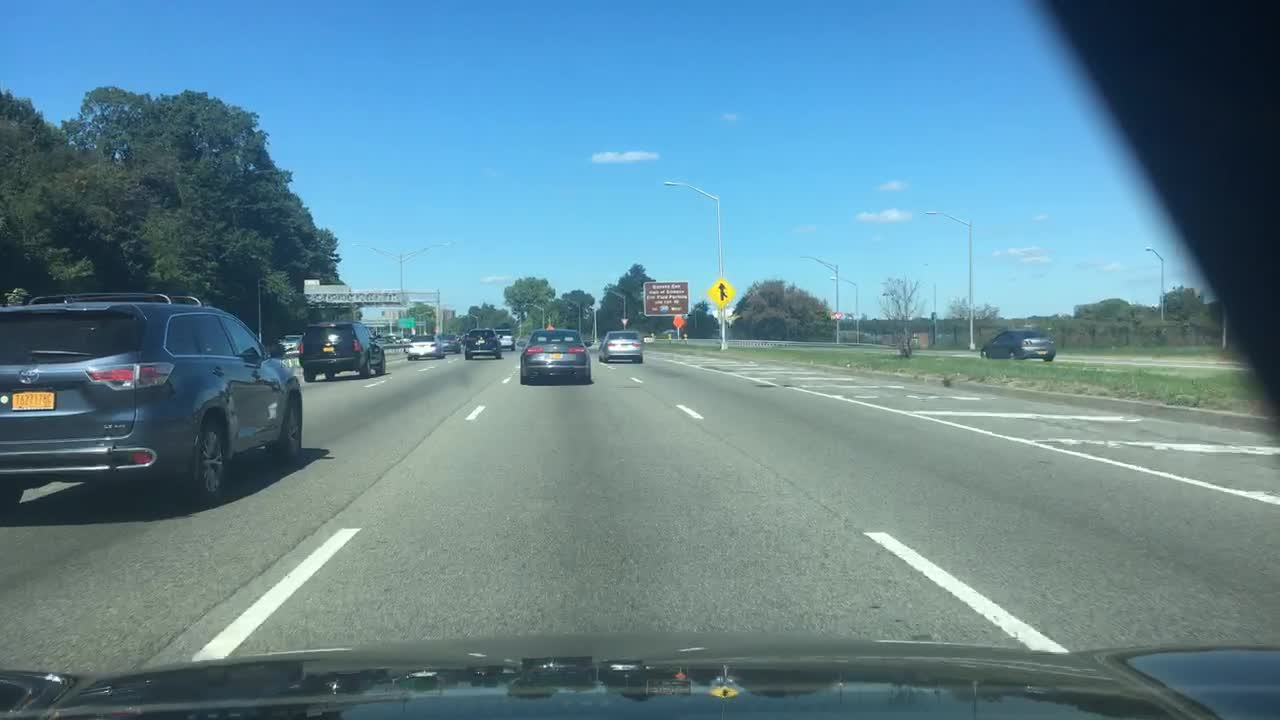car: (0, 289, 306, 517), (295, 319, 387, 381), (519, 327, 590, 384), (979, 328, 1058, 359), (599, 329, 644, 361), (463, 326, 503, 360), (405, 334, 444, 361), (492, 327, 515, 351), (439, 330, 460, 355), (274, 332, 303, 350), (458, 330, 473, 347), (390, 332, 410, 342), (376, 332, 390, 345), (644, 332, 657, 343)
traffic sign: (642, 277, 691, 314), (303, 283, 347, 306), (710, 277, 734, 303), (301, 275, 320, 285), (671, 316, 684, 329), (397, 318, 414, 327), (616, 314, 631, 324)
